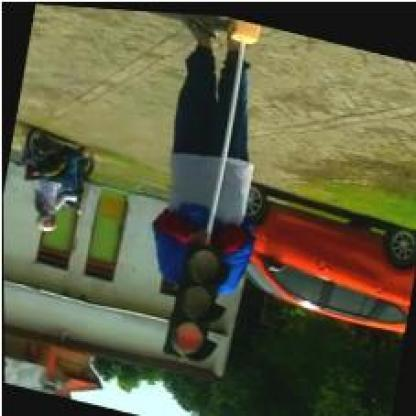red: (158, 234, 233, 368)
